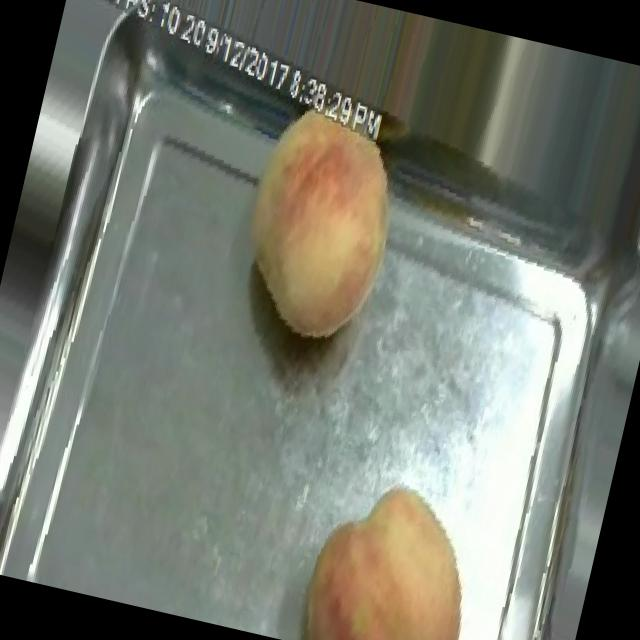Fruit: (204, 70, 434, 363), (281, 460, 506, 640)
